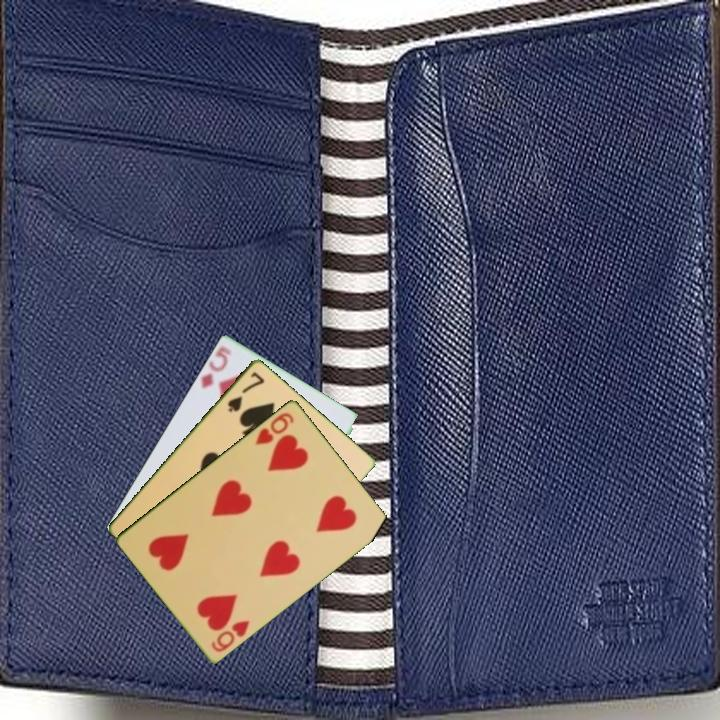5d: (197, 342, 234, 391)
6h: (251, 408, 297, 448), (208, 616, 253, 655)
7s: (224, 368, 267, 415)
